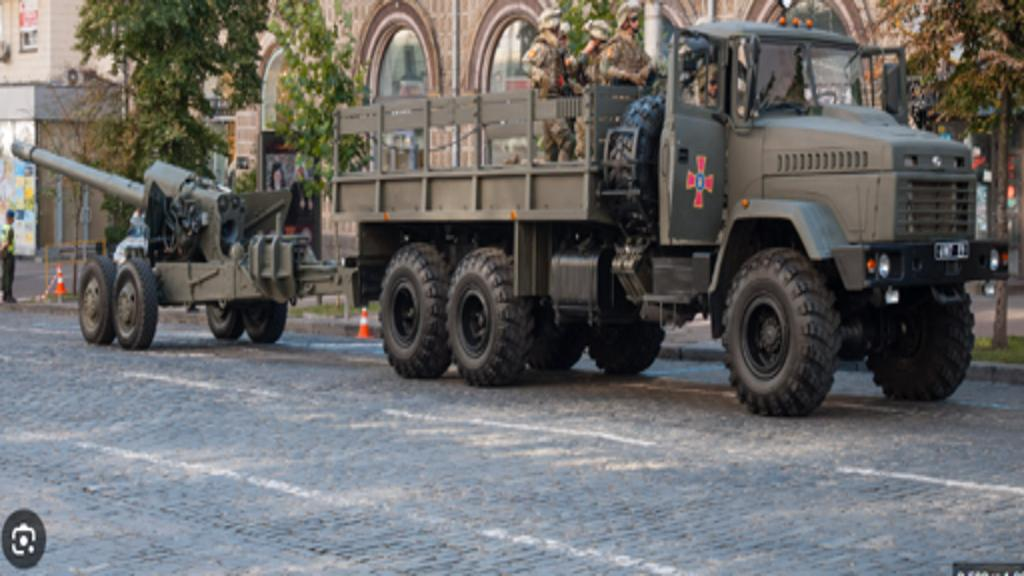ART: (8, 136, 312, 348)
TRUCK: (332, 13, 1014, 420)
